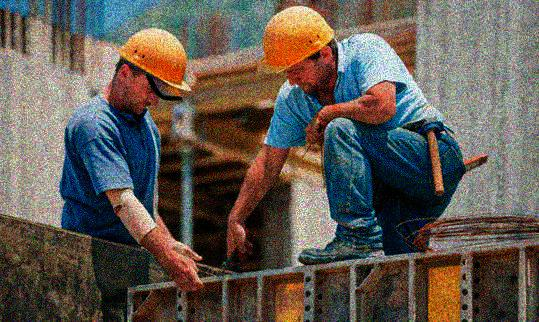helmet: (112, 26, 192, 119), (254, 6, 338, 91)
